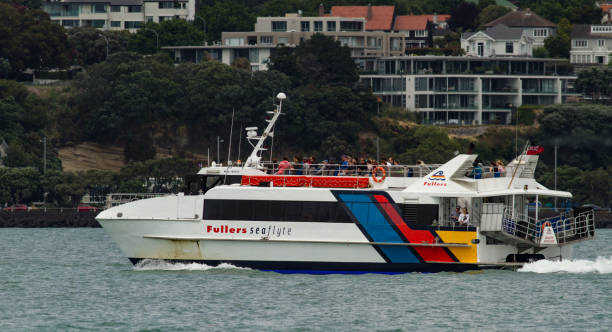ferry: (94, 93, 595, 276)
